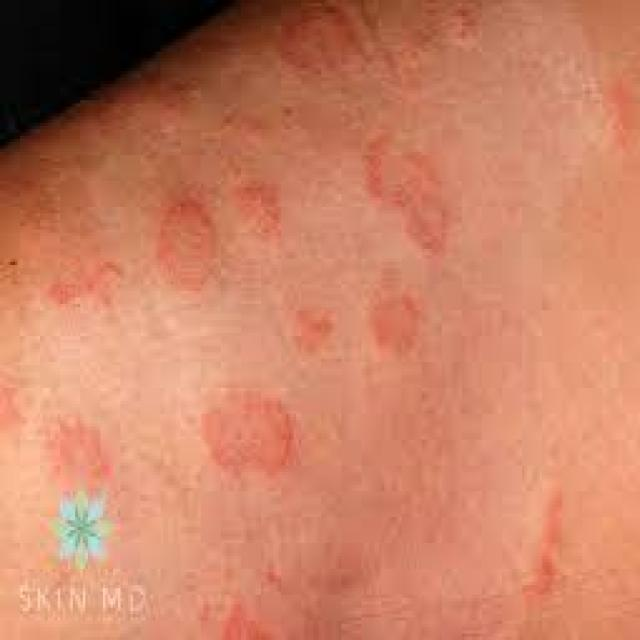Eczema: (18, 0, 465, 542)
